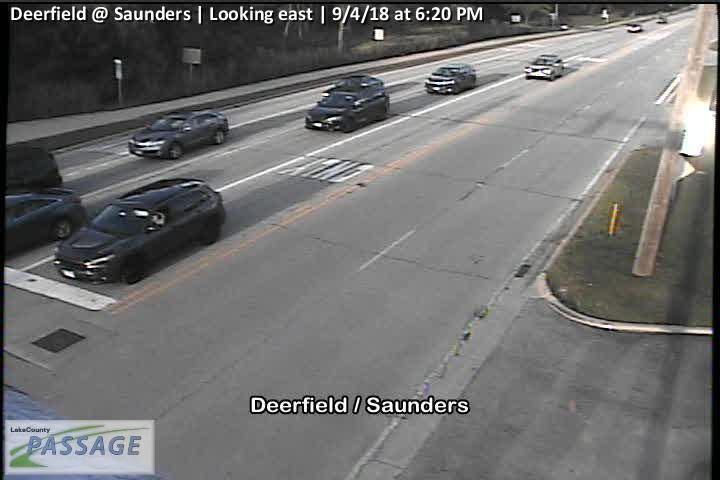SUV: (54, 181, 226, 285), (305, 82, 389, 133), (424, 64, 476, 94), (523, 54, 563, 81)
Sedan: (4, 187, 86, 255), (128, 108, 228, 160), (321, 76, 385, 101)
